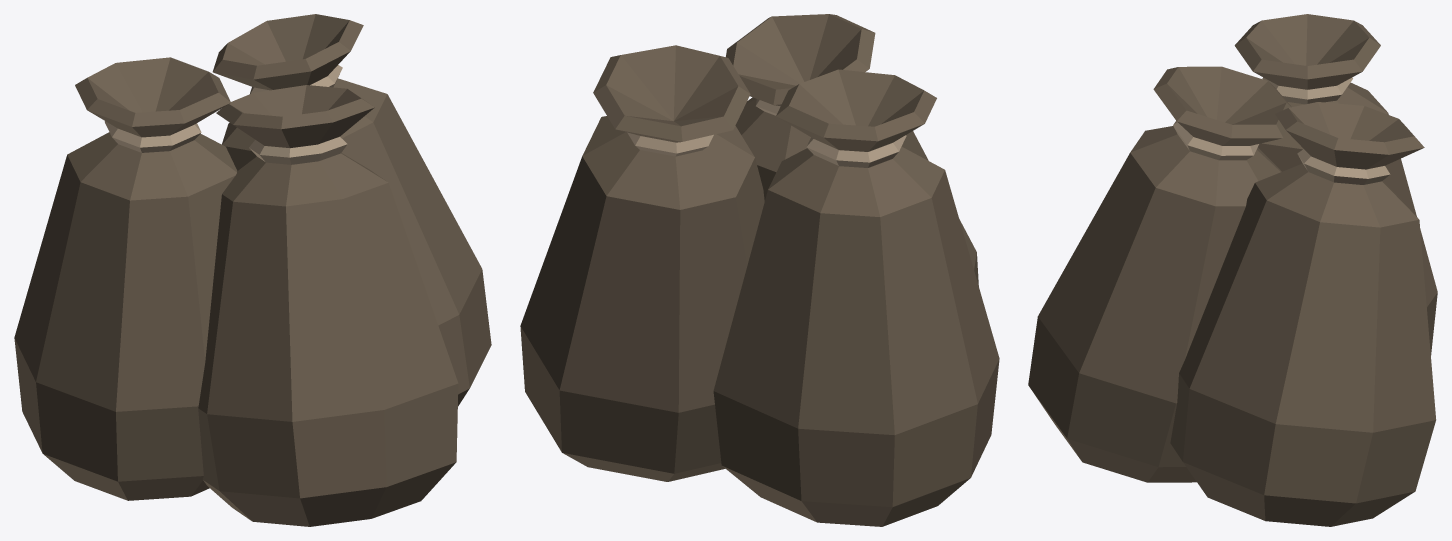
File: SM_Prop_Sack_04.glb
The picture shows the model from 3 angles, left to right: view 1: azimuth 30°, elevation 25°; view 2: azimuth 150°, elevation 25°; view 3: azimuth 270°, elevation 25°; orthographic projection. The views are drawn at different scales.
Visible parts, largest first — view 1: SM_Prop_Sack_04_part00; view 2: SM_Prop_Sack_04_part00; view 3: SM_Prop_Sack_04_part00.
Part boxes in pixels (x1,y1,x2,y2): SM_Prop_Sack_04_part00: (14, 14, 491, 526); SM_Prop_Sack_04_part00: (520, 14, 999, 526); SM_Prop_Sack_04_part00: (1028, 14, 1437, 526).
Size of the model in its own units: 0.8916 by 0.7832 by 0.7612.
1 material, 1 textured.
